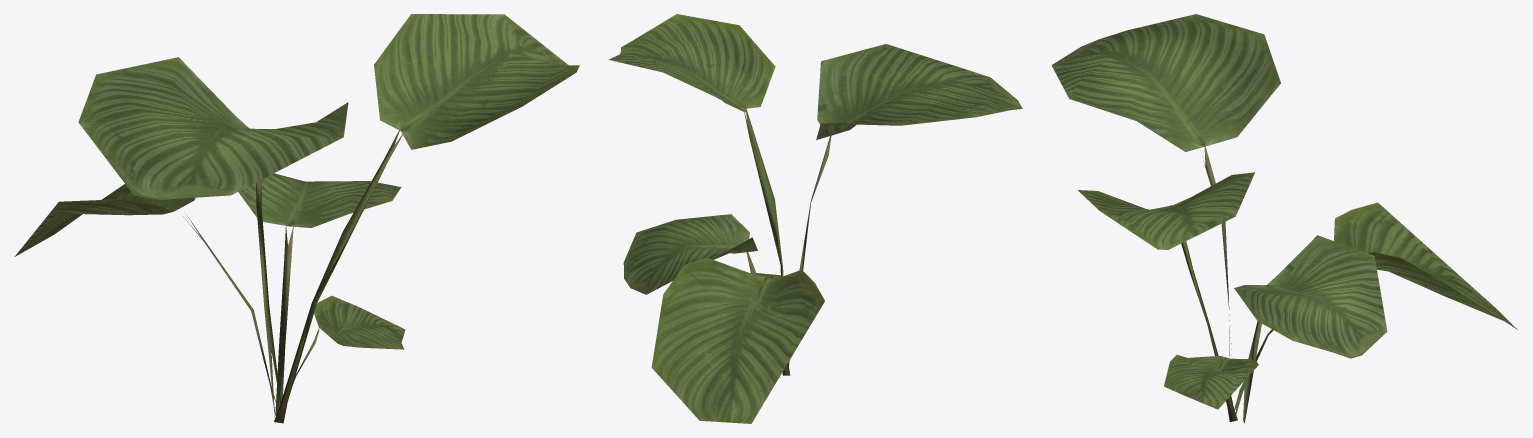
Rendered from Vine bLOD1.fbx.
The picture shows the model from 3 angles, left to right: view 1: azimuth 30°, elevation 25°; view 2: azimuth 150°, elevation 25°; view 3: azimuth 270°, elevation 25°; orthographic projection. The views are drawn at different scales.
Visible parts, largest first — view 1: calathea_orbifolia_01_c.001; view 2: calathea_orbifolia_01_c.001; view 3: calathea_orbifolia_01_c.001.
Boxes of the visible parts, <box> form: calathea_orbifolia_01_c.001: <box>14,14,579,423</box>; calathea_orbifolia_01_c.001: <box>608,14,1022,423</box>; calathea_orbifolia_01_c.001: <box>1051,14,1517,423</box>.
Size of the model in its own units: 36.41 by 27.11 by 36.02.
